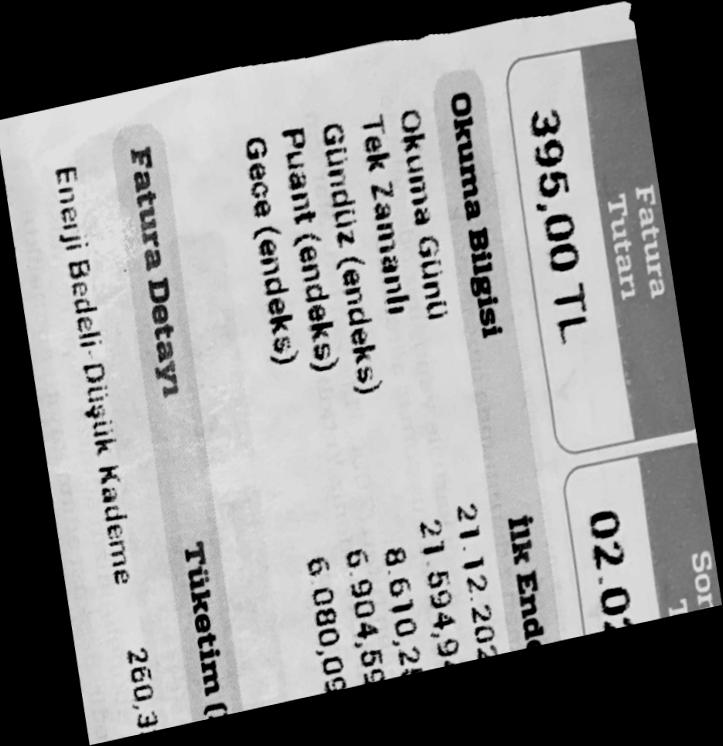electricity-bill: (0, 1, 722, 745)
